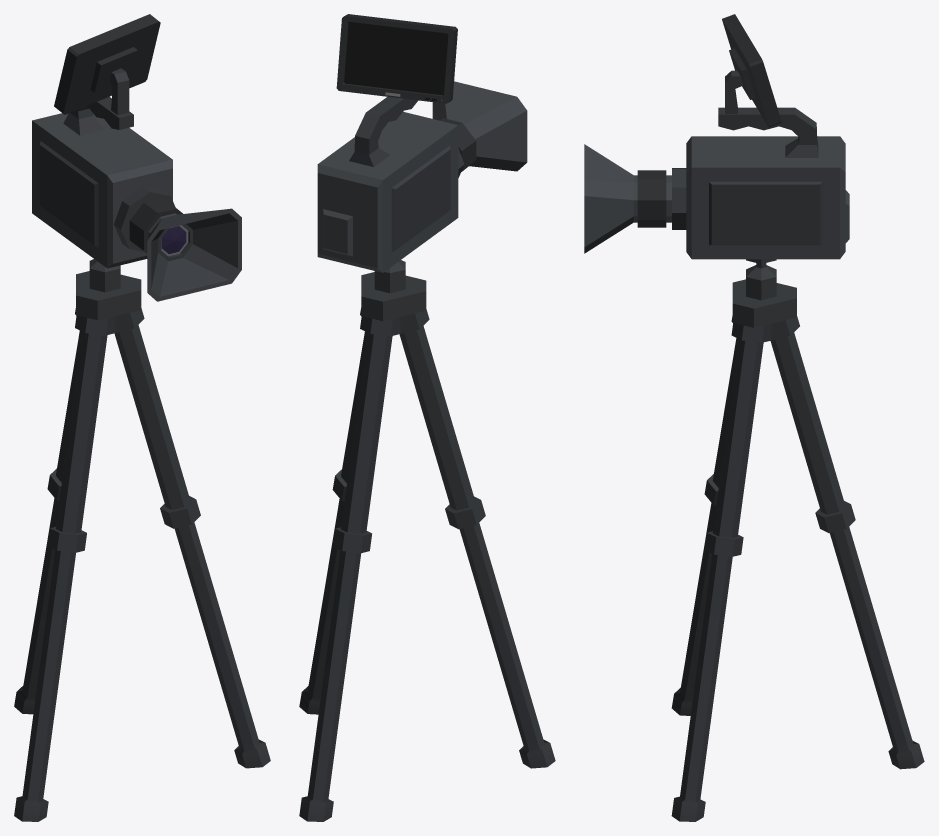
Rendered from CameraTripod.obj.
3 views of the same model, side by side, from view 1: azimuth 30°, elevation 25°; view 2: azimuth 150°, elevation 25°; view 3: azimuth 270°, elevation 25° (orthographic).
Bounding box in the file's own units: 0.5644 × 1.6 × 0.6787.
Materials: 1 (1 with a texture image).
